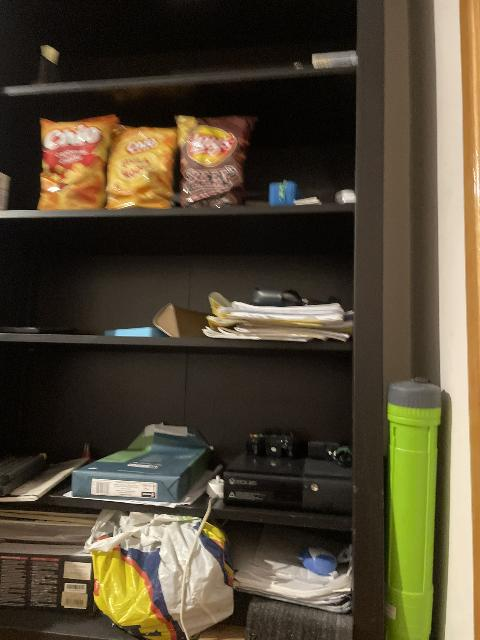Chio Cascaval 125g: (36, 114, 118, 210)
Chio Hula Hoops Cheese 70g: (104, 124, 179, 209)
Lays Beef Grilled Ribs 125g: (177, 115, 259, 207)
